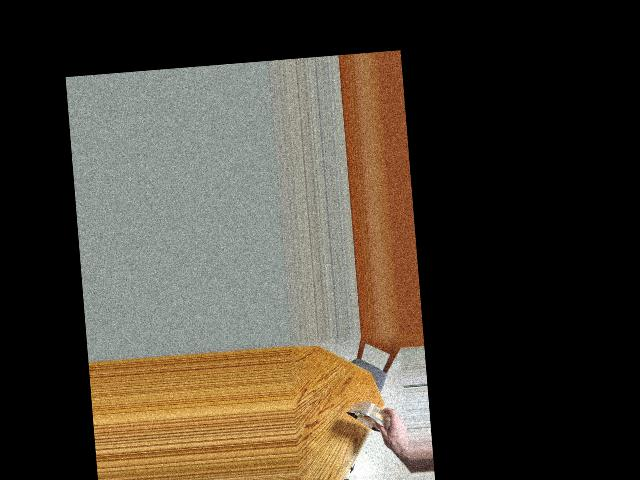cheese: (349, 393, 397, 449)
